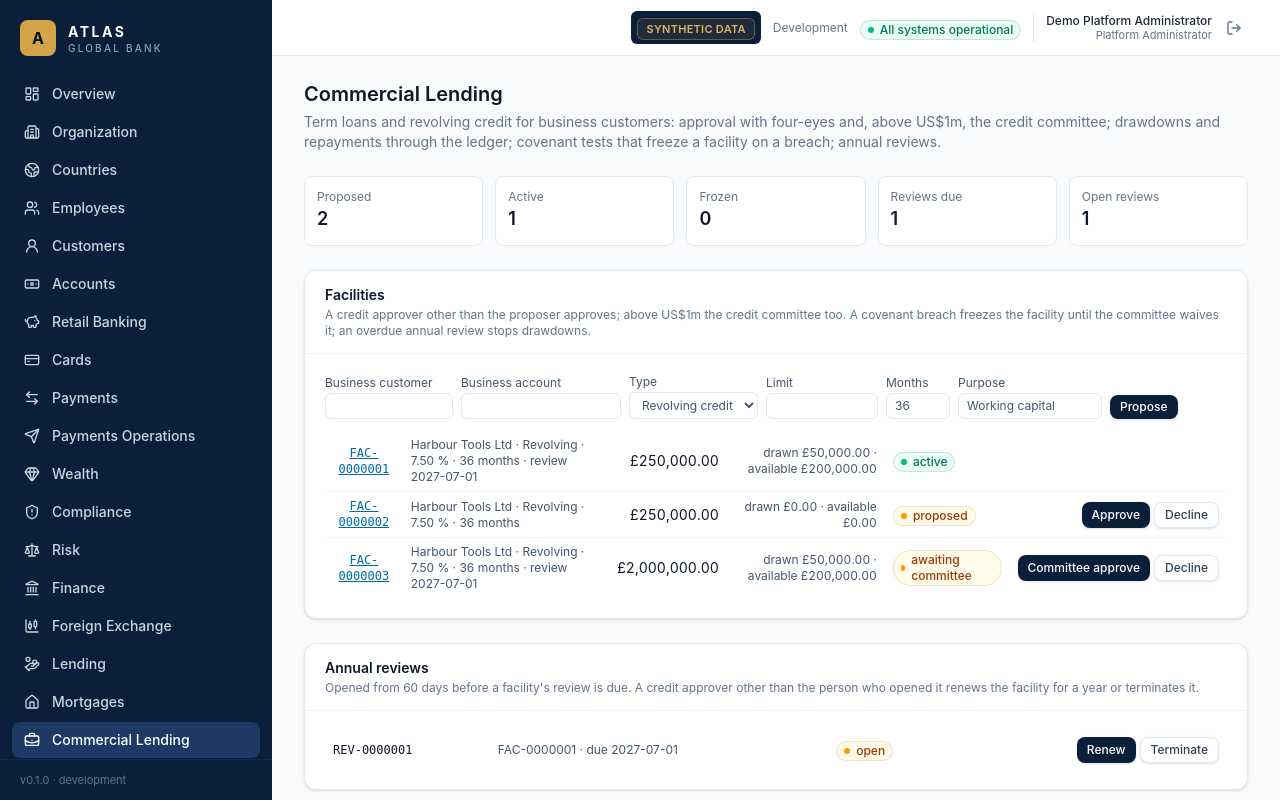
Scenario: Commercial Lending page › shows facilities, a facility's covenant tests and the reviews
The image size is (1280, 800).
Check: the row named "Select FAC-0000001" shows "drawn £50,000.00 · available £200,000.00", box [325,431,1227,492]
Check: the text "awaiting committee" is shown, box [911,552,972,583]
Click the button with aria-label "Select FAC-0000001": (364, 460) [333,444,395,476]
(page scrolled)
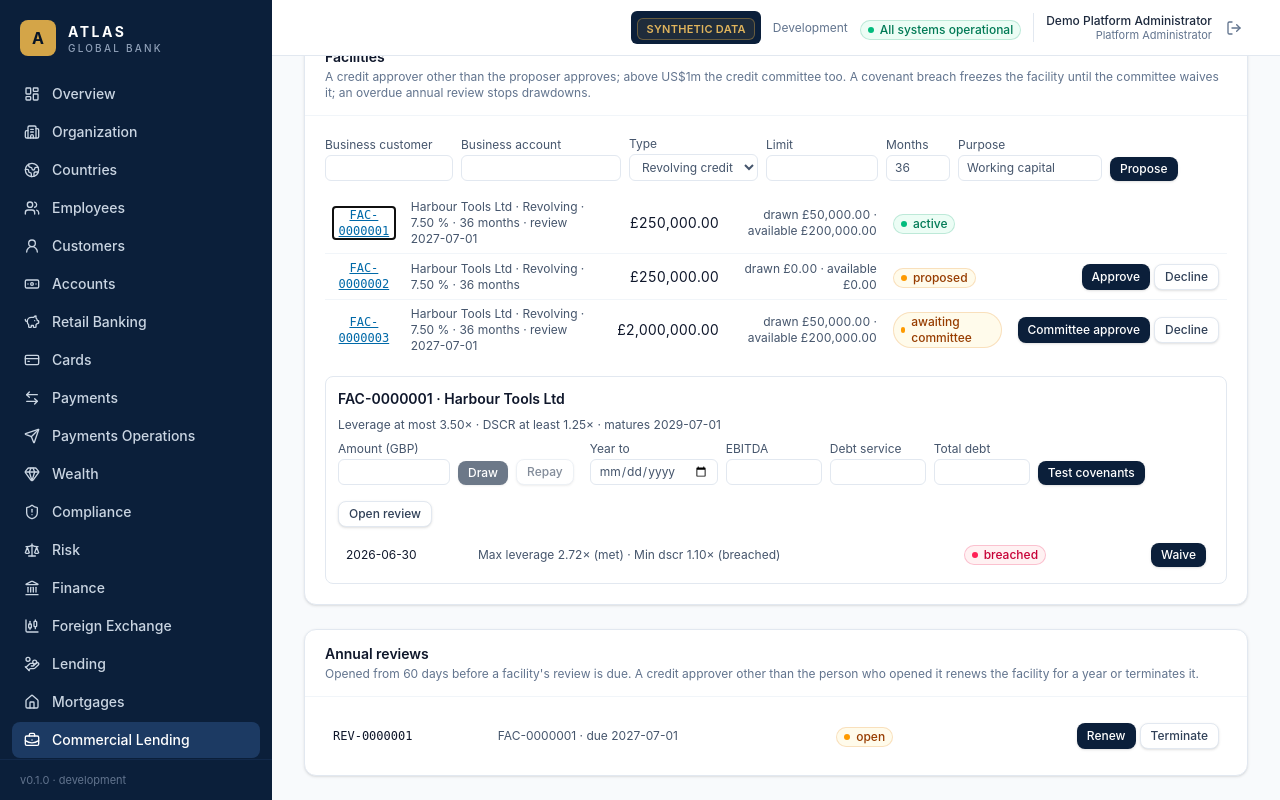
Check: the table named "Reviews" shows "REV-0000001", box [333,729,412,743]
Check: the element named "Facility FAC-0000001" shows "Leverage at most 3.50× · DSCR at least 1.25×", box [338,417,594,432]
Check: the text "Max leverage 2.72× (met) · Min dscr 1.10× (breached)" is shown, box [470,539,956,571]
